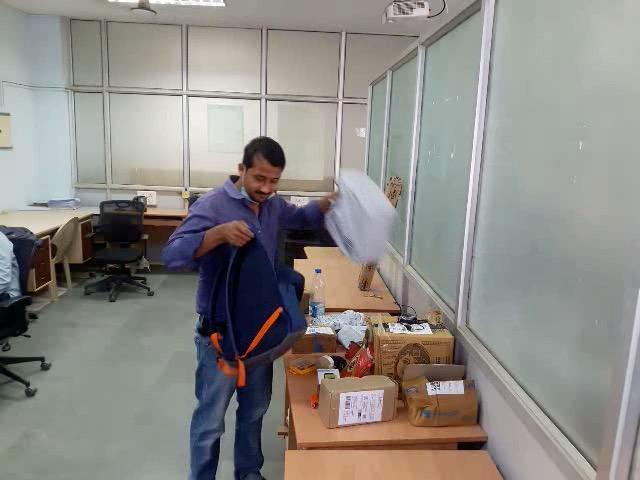shoplifting: (121, 122, 455, 419)
